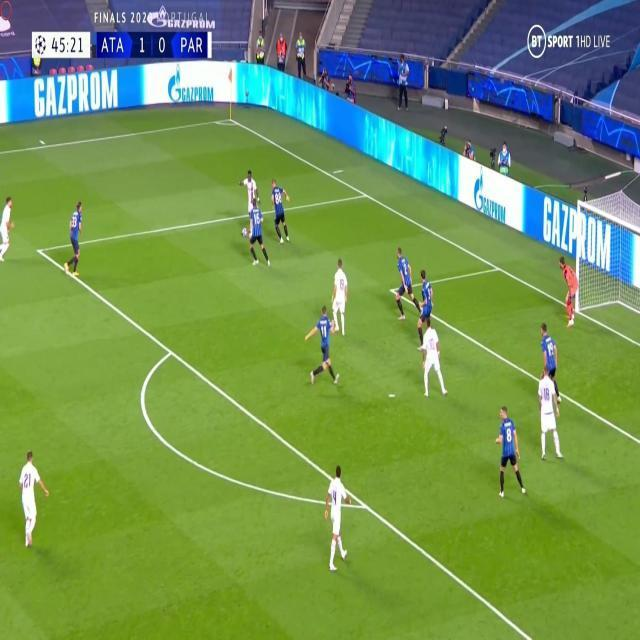ball: (241, 225, 247, 237)
goalkeeper: (558, 254, 579, 329)
player: (17, 445, 48, 547), (535, 360, 564, 463), (325, 459, 351, 571), (495, 403, 525, 500), (306, 301, 337, 387), (418, 323, 449, 400), (539, 324, 562, 410), (392, 246, 418, 322), (247, 199, 271, 269), (65, 197, 84, 278), (238, 168, 261, 233), (330, 257, 348, 339), (270, 177, 290, 246), (417, 266, 435, 341), (0, 193, 15, 261)
